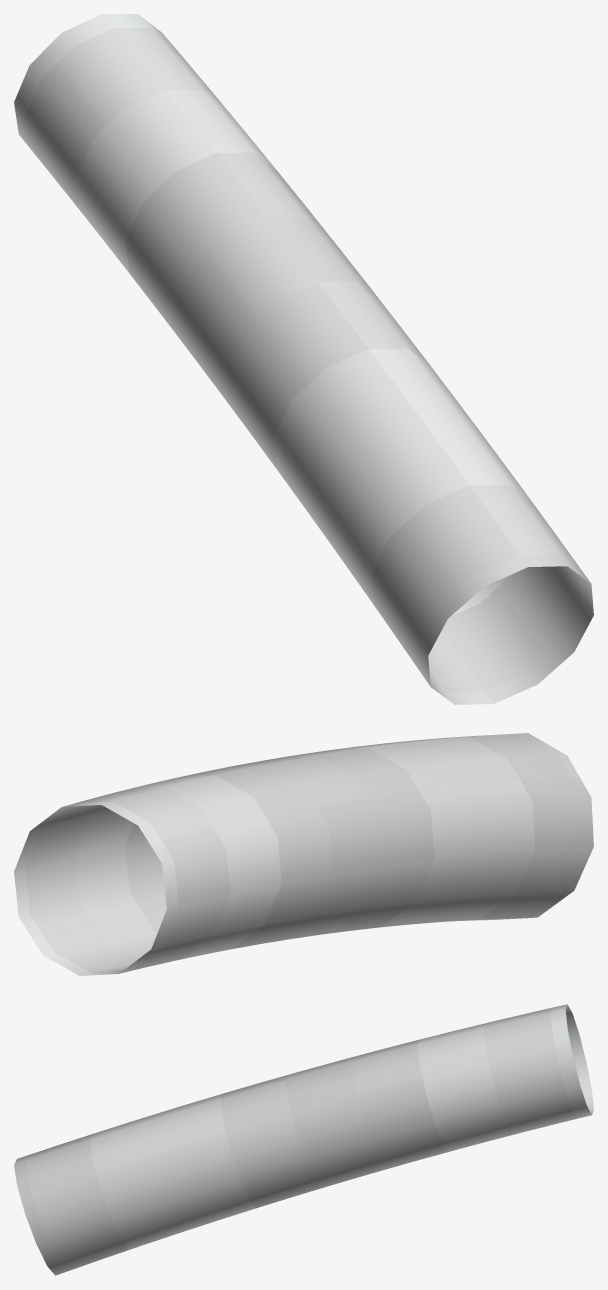
File: luminairearm_caltrans12ftdouble_c3.obj
3 renders of one model, top to bottom at view 1: azimuth 30°, elevation 25°; view 2: azimuth 150°, elevation 25°; view 3: azimuth 270°, elevation 25°, orthographic. The views are drawn at different scales.
Parts seen in each view (by area): view 1: luminairearm_caltrans12ftdouble_c3; view 2: luminairearm_caltrans12ftdouble_c3; view 3: luminairearm_caltrans12ftdouble_c3.
Part boxes in pixels (<box>): luminairearm_caltrans12ftdouble_c3: <box>14,14,593,704</box>; luminairearm_caltrans12ftdouble_c3: <box>14,733,593,975</box>; luminairearm_caltrans12ftdouble_c3: <box>14,1004,593,1275</box>.
Bounding box in the file's own units: 0.2275 × 0.5279 × 1.07.
